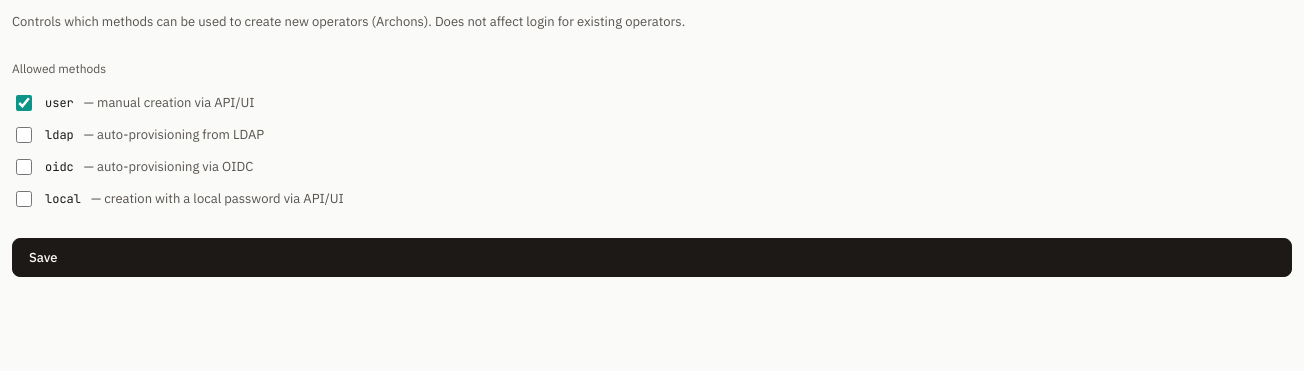
ProvisioningPolicy › PUT error → shows error alert
The image size is (1304, 371).
What coordinates should you click on to do the following:
click the button with test id "save-policy-btn"
I would click on:
 (43, 257)
Its box is [12, 238, 1292, 276].
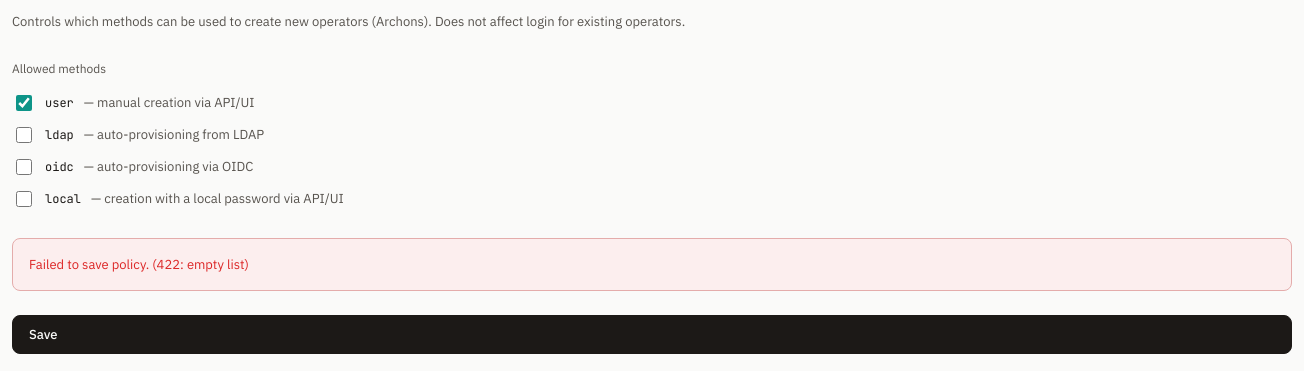
Expected: the message "Failed to save policy. (422: empty list)" is shown, [12, 238, 1292, 291]
